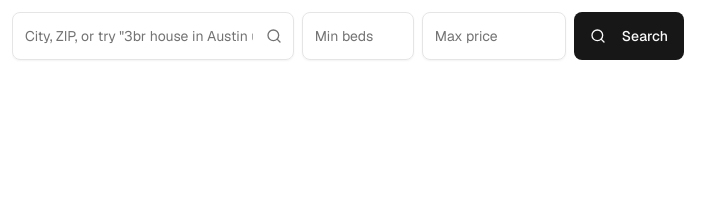
Test: SearchBar component › autocomplete dropdown › shows multiple suggestions for partial matches
Type "a" into the field with placeholder "City, ZIP, or try \"3br house in Austin under $600k\"".
click(153, 36); type("a")  # box [12, 12, 294, 60]
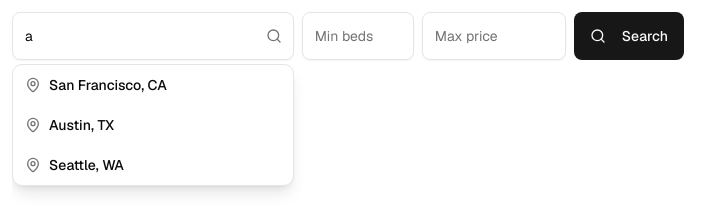
Check: the button "San Francisco, CA" is shown, box [13, 65, 293, 105]
